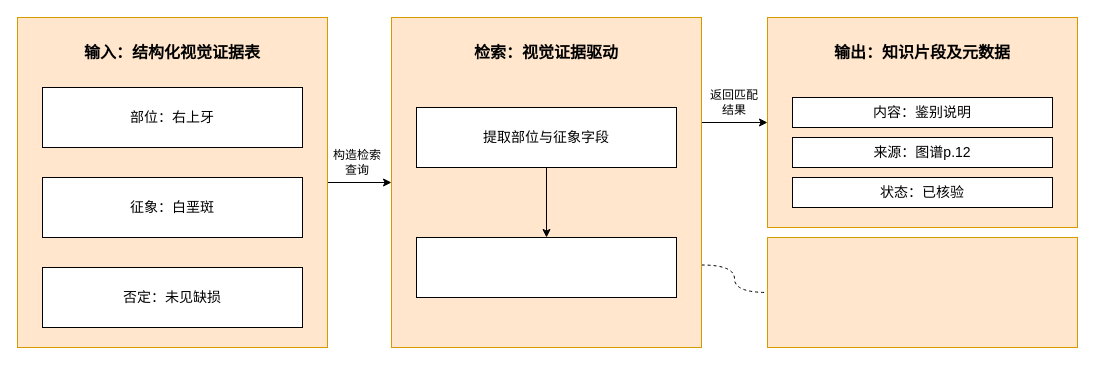
This 1095x365 diagram has some shape labels left out. The shapes that lost their labels are listed below. From the top down, each one's box as (x1, y1, x2, y2) in pixels, then its label:
(416, 236, 676, 298): 在“已核验”知识库中匹配
(766, 236, 1078, 348): 检索约束：仅补充分级依据与鉴别，不替代图像证据
